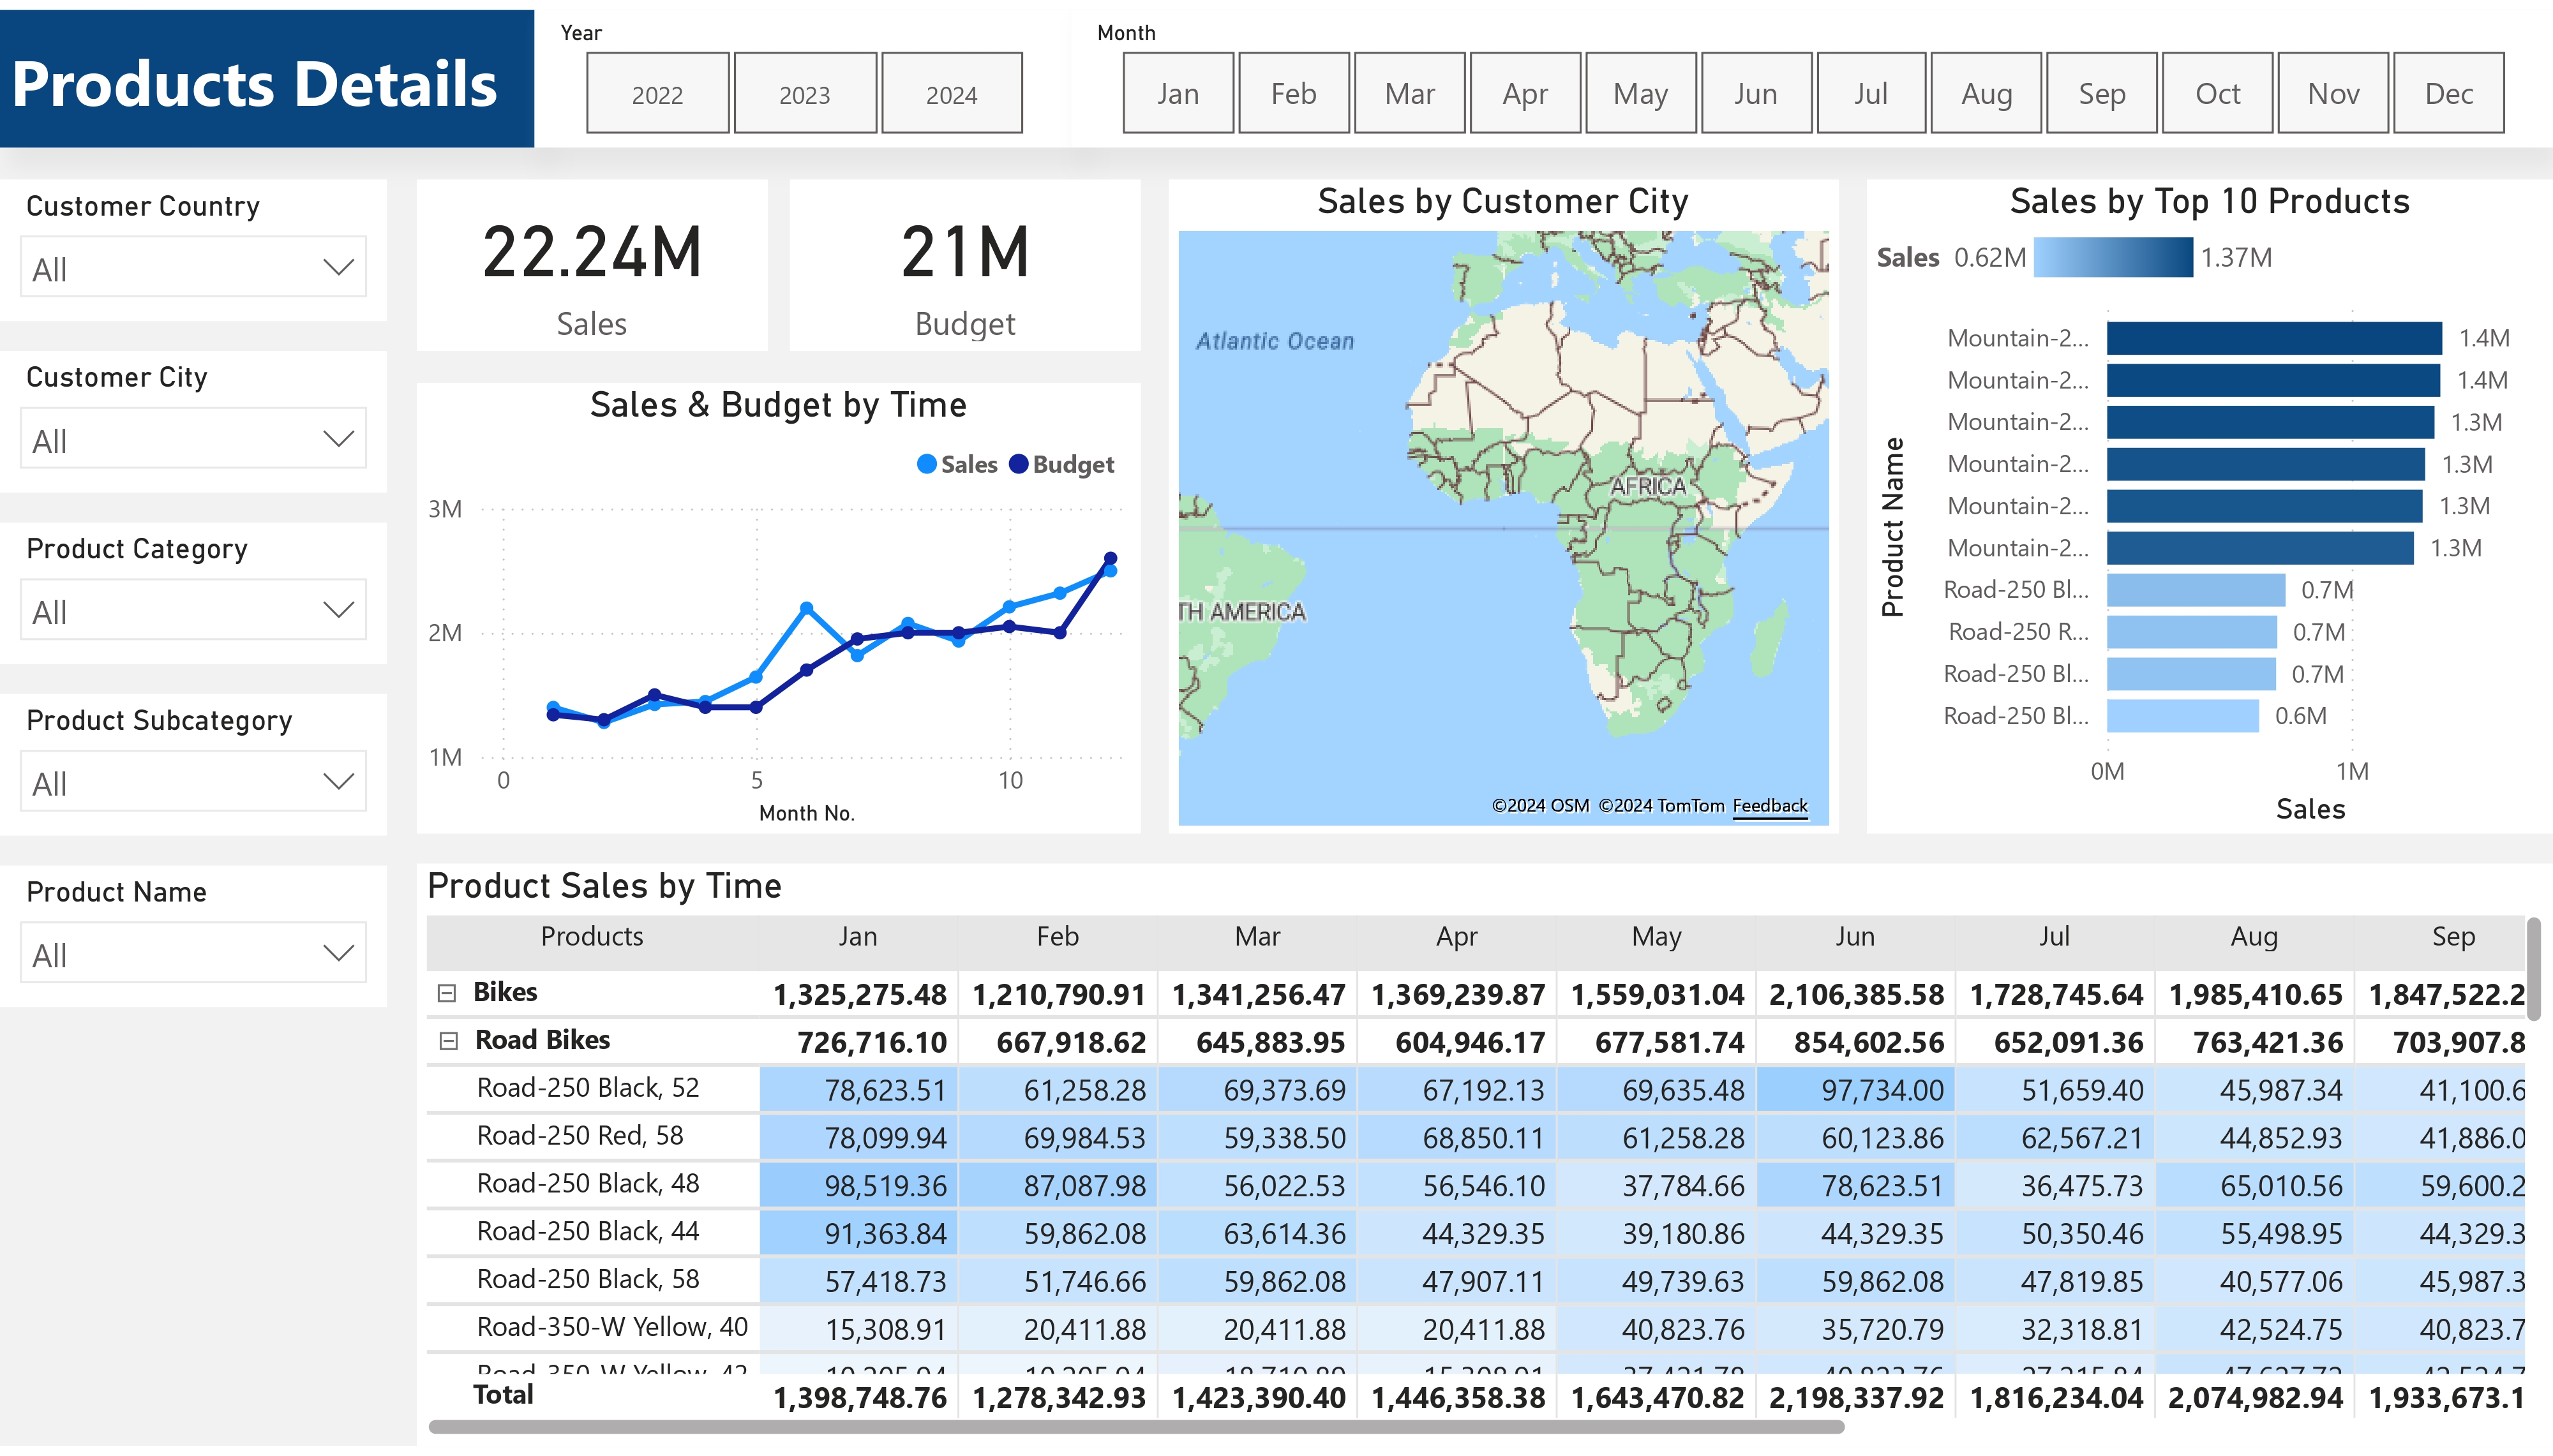

This screenshot's page, from the dashboard's own definition file:
{"tool":"powerbi","page":{"name":"Products Details","canvas":[1280,720],"ordinal":2},"visuals":[{"type":"textbox","box":[0,0,267.8,69.1],"z":0},{"type":"slicer","fields":{"Values":["DIM_Customer.Customer Country"]},"box":[0,84.6,193.8,70.8],"z":1000},{"type":"slicer","fields":{"Values":["DIM_Customer.Customer City"]},"box":[0,170.8,193.8,70.8],"z":2000},{"type":"slicer","fields":{"Values":["DIM_Products.Product Name"]},"box":[0,429.2,193.8,70.8],"z":3000},{"type":"slicer","fields":{"Values":["DIM_Products.Product Category Name"]},"box":[0,256.9,193.8,70.8],"z":4000},{"type":"slicer","fields":{"Values":["DIM_Products.Product Subcategory Name"]},"box":[0,343.1,193.8,70.8],"z":5000},{"type":"slicer","fields":{"Values":["DIM_Calendar.Year"]},"box":[267.8,0,269.3,69.1],"z":6000},{"type":"slicer","fields":{"Values":["DIM_Calendar.MonthShort"]},"box":[537.1,0,743,69.1],"z":7000},{"type":"lineChart","title":"Sales & Budget by Time","fields":{"Y":["Key Measures.Sales","Key Measures.Budget Amount"],"Category":["DIM_Calendar.Month No."]},"box":[208.8,187.2,362.9,226.1],"z":8000},{"type":"map","fields":{"Category":["DIM_Customer.Customer City"],"Size":["Key Measures.Sales"]},"box":[586.1,85,335.5,328.3],"z":9000},{"type":"card","fields":{"Values":["Key Measures.Sales"]},"box":[208.8,85,175.7,86.4],"z":10000},{"type":"card","fields":{"Values":["Key Measures.Budget Amount"]},"box":[396,85,175.7,86.4],"z":11000},{"type":"pivotTable","title":"Product Sales by Time","fields":{"Values":["Key Measures.Sales"],"Columns":["DIM_Calendar.MonthShort"],"Rows":["DIM_Products.Product Category Name","DIM_Products.Product Subcategory Name","DIM_Products.Product Name"]},"box":[208.7,427.6,1071.3,292.4],"z":12000},{"type":"clusteredBarChart","title":"Sales by Top 10 Products","fields":{"Y":["Key Measures.Sales"],"Category":["DIM_Products.Product Name"]},"box":[936,85,344.2,328.3],"z":13000}]}

Visuals, with their boxes in screenshot pixels (x1, y1, x2, y2), scaled from the page's 1280x720 canvas onto the 2553x1456 screenshot:
textbox: bbox=[0, 0, 534, 140]
slicer - DIM_Customer.Customer Country: bbox=[0, 171, 387, 315]
slicer - DIM_Customer.Customer City: bbox=[0, 345, 387, 489]
slicer - DIM_Products.Product Name: bbox=[0, 868, 387, 1011]
slicer - DIM_Products.Product Category Name: bbox=[0, 519, 387, 663]
slicer - DIM_Products.Product Subcategory Name: bbox=[0, 694, 387, 837]
slicer - DIM_Calendar.Year: bbox=[534, 0, 1071, 140]
slicer - DIM_Calendar.MonthShort: bbox=[1071, 0, 2552, 140]
"Sales & Budget by Time" lineChart: bbox=[416, 378, 1141, 836]
map - DIM_Customer.Customer City x Key Measures.Sales: bbox=[1169, 172, 1838, 836]
card - Key Measures.Sales: bbox=[416, 172, 767, 346]
card - Key Measures.Budget Amount: bbox=[790, 172, 1141, 346]
"Product Sales by Time" pivotTable: bbox=[416, 865, 2552, 1455]
"Sales by Top 10 Products" clusteredBarChart: bbox=[1867, 172, 2552, 836]
